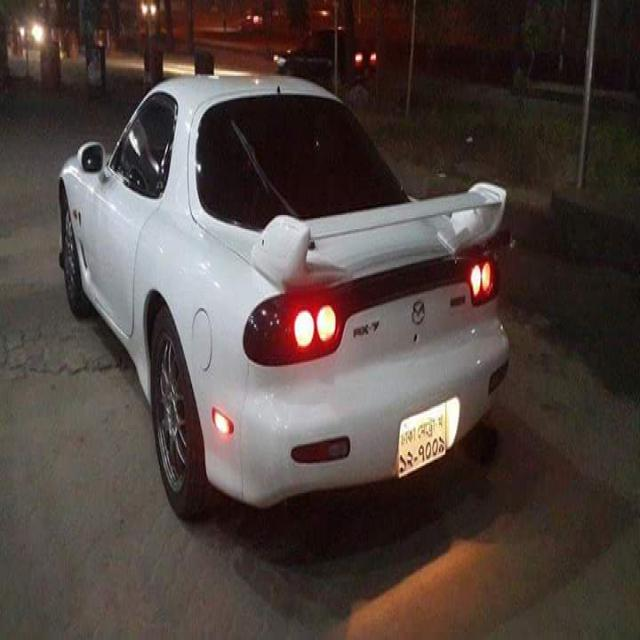numberplate: (396, 401, 447, 479)
